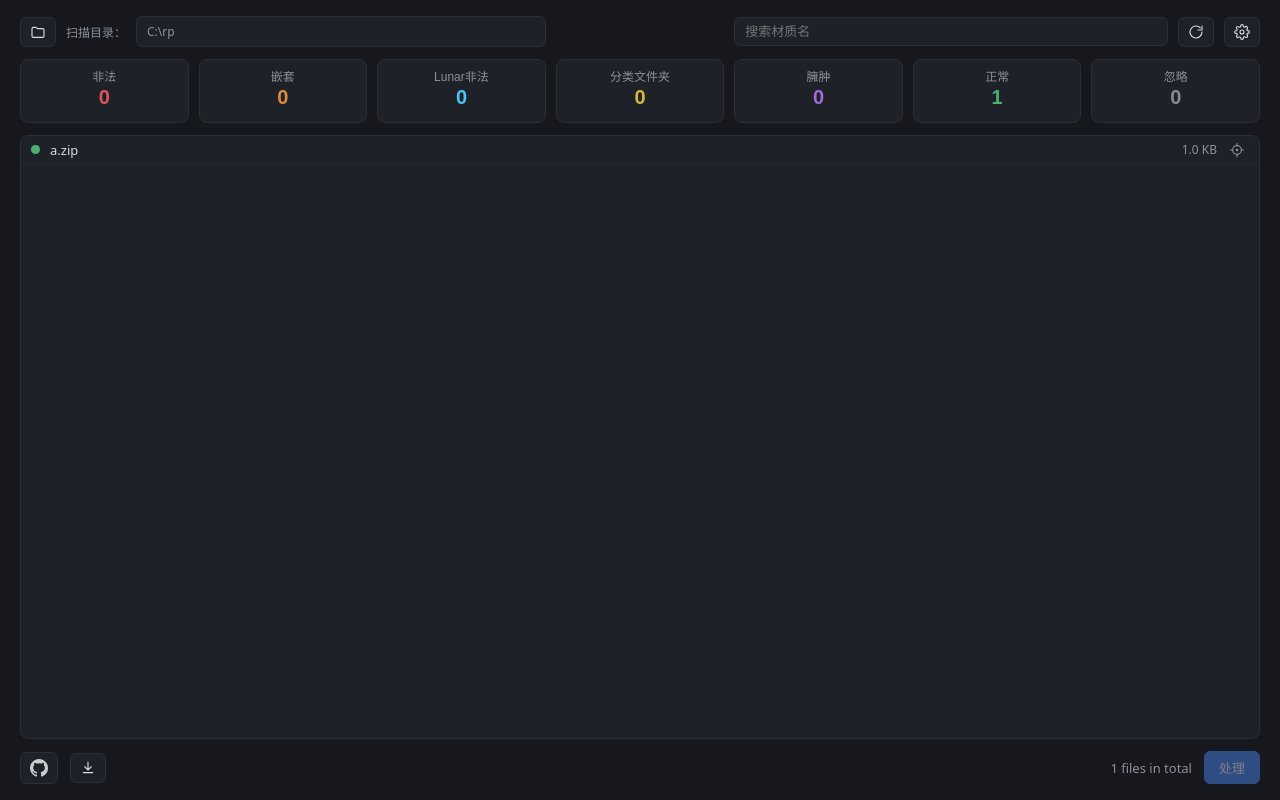
Test: manual check with no update shows latest dialog
The image size is (1280, 800).
Click the button named "检测更新" at (88, 768), box left=70, top=752, right=106, bottom=782
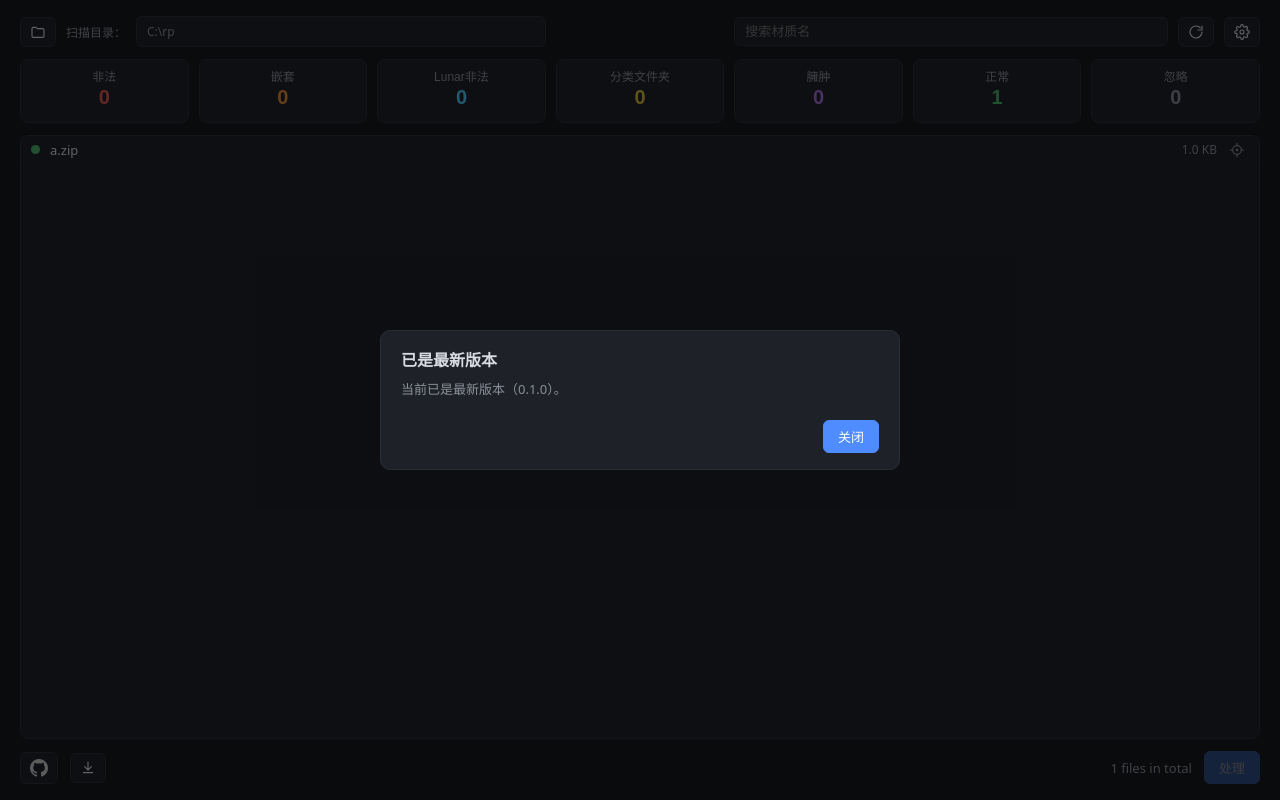
Expected: the text "当前已是最新版本（0.1.0）。" is shown, left=401, top=380, right=567, bottom=398
